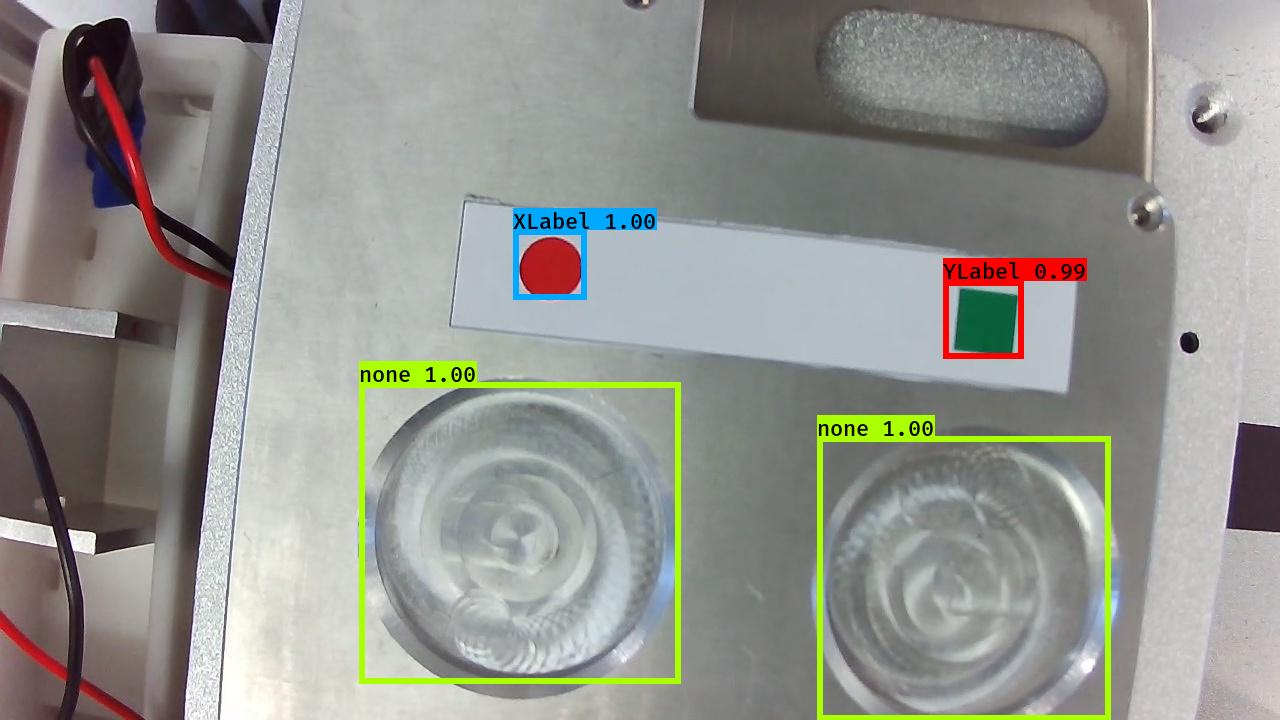XLabel: (518, 234, 584, 300)
YLabel: (949, 286, 1022, 359)
none: (349, 370, 688, 705), (808, 423, 1123, 720)
